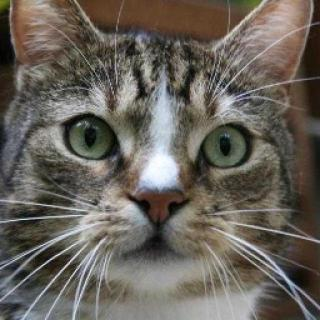cat: (10, 0, 298, 286)
nose: (128, 180, 187, 235)
